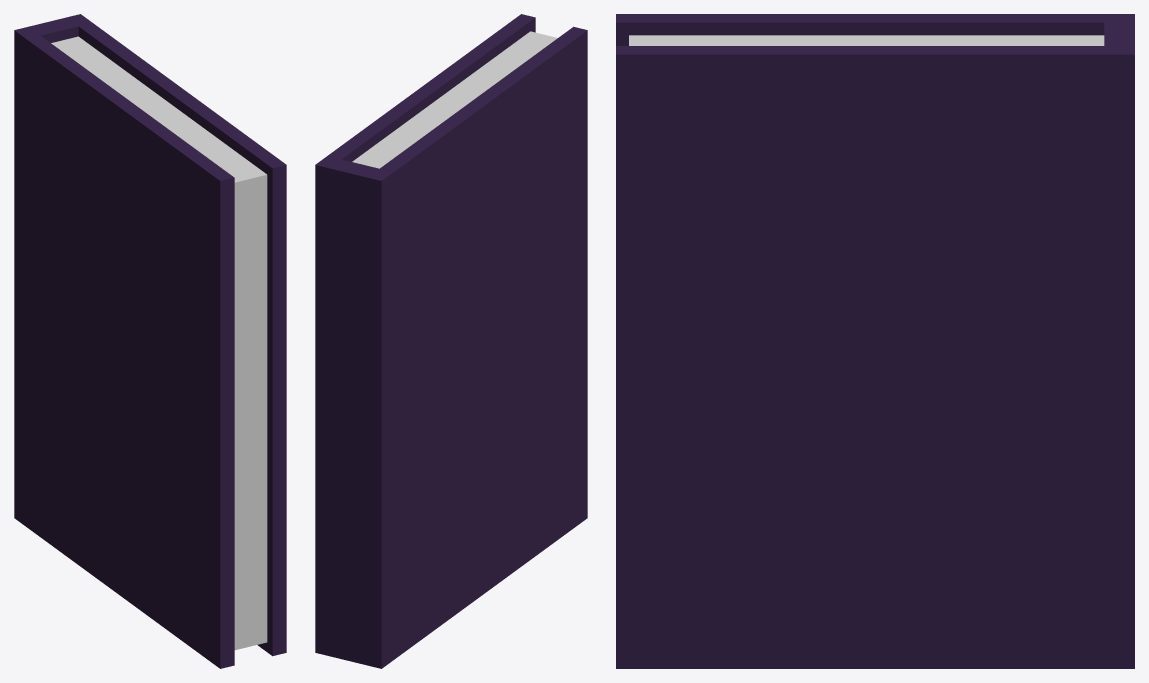
File: Floor Book 6.fbx
The picture shows the model from 3 angles, left to right: view 1: azimuth 30°, elevation 25°; view 2: azimuth 150°, elevation 25°; view 3: azimuth 270°, elevation 25°; orthographic projection. The views are drawn at different scales.
Parts seen in each view (by area): view 1: pCube1; view 2: pCube1; view 3: pCube1.
Boxes of the visible parts, left/top/right/bottom form: pCube1: left=14, top=14, right=286, bottom=668; pCube1: left=315, top=14, right=587, bottom=668; pCube1: left=616, top=14, right=1134, bottom=668.
Bounding box in the file's own units: 0.5168 × 3.63 × 2.78.
